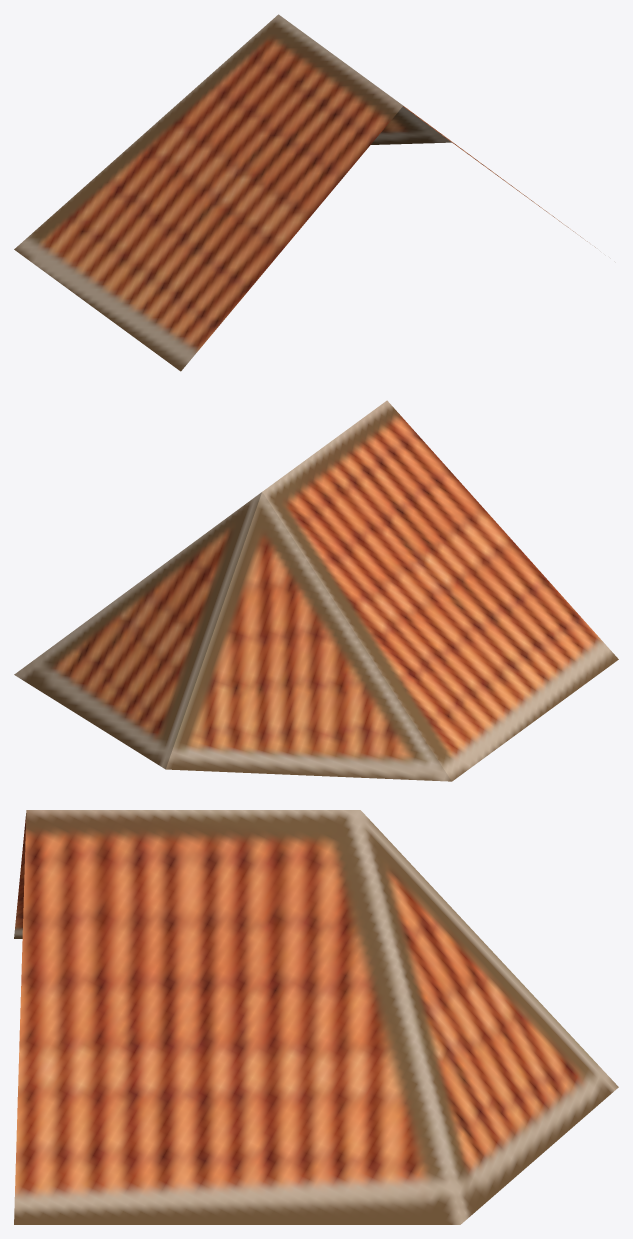
File: DuoiNgoaiCungPhai.glb
3 renders of one model, top to bottom at view 1: azimuth 30°, elevation 25°; view 2: azimuth 150°, elevation 25°; view 3: azimuth 270°, elevation 25°, orthographic. The views are drawn at different scales.
Visible parts, largest first — view 1: Object_4.003; view 2: Object_4.003; view 3: Object_4.003.
Boxes of the visible parts, x1=… form: Object_4.003: x1=14, y1=14, x2=595, y2=371; Object_4.003: x1=14, y1=400, x2=618, y2=781; Object_4.003: x1=14, y1=810, x2=618, y2=1224.
Size of the model in its own units: 0.3003 by 0.1357 by 0.2684.
Materials: 1 (1 with a texture image).
